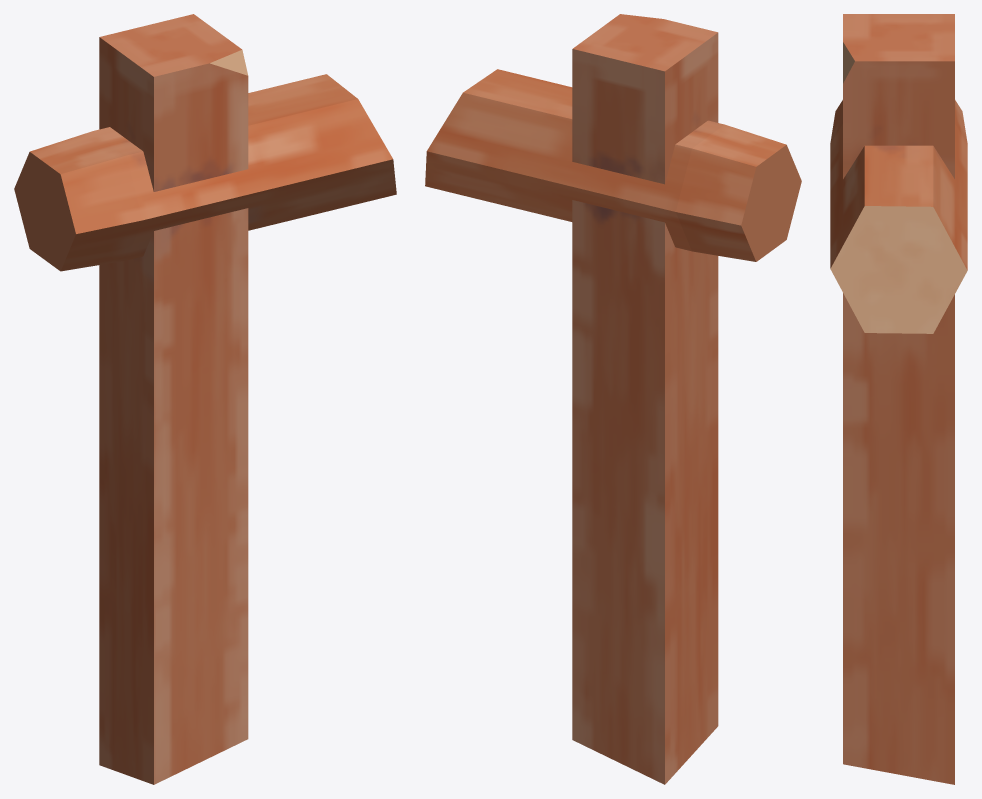
File: well_s01.fbx
3 renders of one model, left to right at view 1: azimuth 30°, elevation 25°; view 2: azimuth 150°, elevation 25°; view 3: azimuth 270°, elevation 25°, orthographic. The views are drawn at different scales.
Visible parts, largest first — view 1: well_s01; view 2: well_s01; view 3: well_s01.
Boxes of the visible parts, x1,y1,x2,y2 form: well_s01: (14,14,396,784); well_s01: (425,14,801,784); well_s01: (830,14,967,784).
Bounding box in the file's own units: 1.57 × 3.24 × 0.54.
